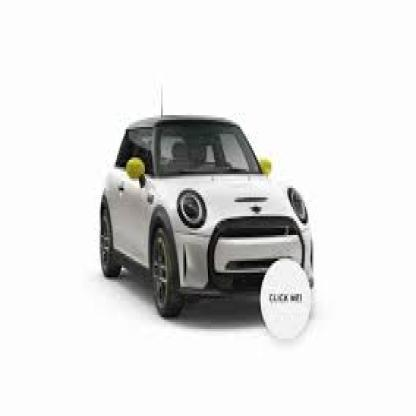car: (100, 112, 315, 306)
